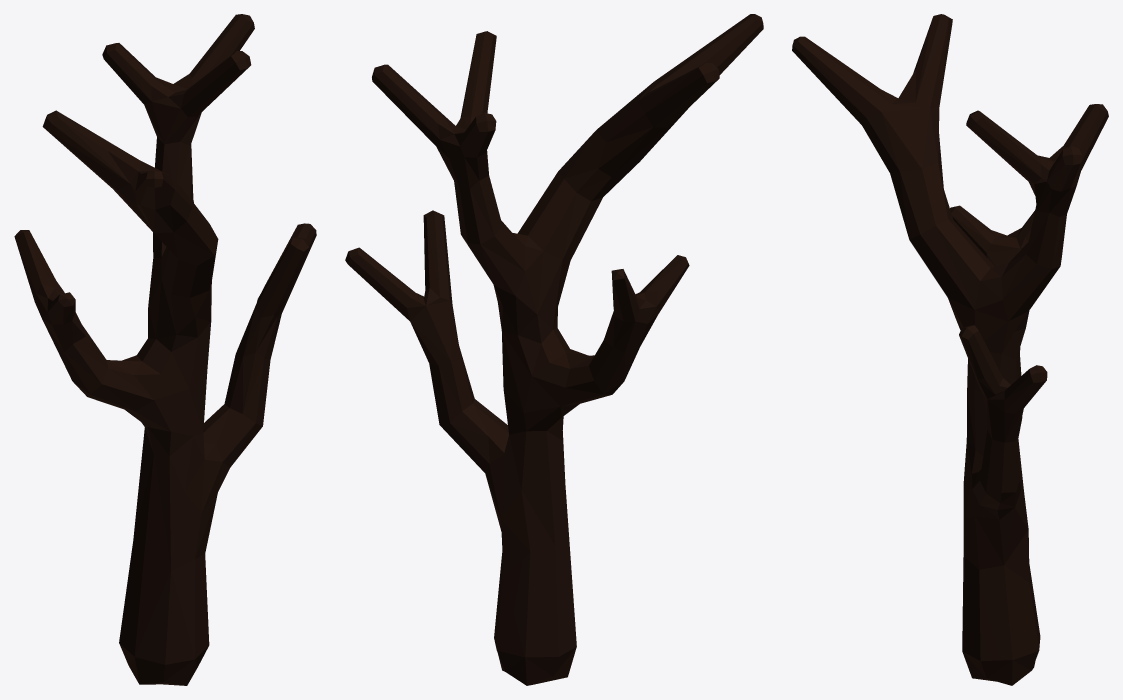
The model's file is BurnedTree1.obj.
3 renders of one model, left to right at view 1: azimuth 30°, elevation 25°; view 2: azimuth 150°, elevation 25°; view 3: azimuth 270°, elevation 25°, orthographic. The views are drawn at different scales.
Parts seen in each view (by area): view 1: deadtree1_Cube_Cube.000; view 2: deadtree1_Cube_Cube.000; view 3: deadtree1_Cube_Cube.000.
Part boxes in pixels (x1,y1,x2,y2): deadtree1_Cube_Cube.000: [14, 14, 316, 685]; deadtree1_Cube_Cube.000: [345, 14, 763, 685]; deadtree1_Cube_Cube.000: [792, 14, 1108, 685].
Bounding box in the file's own units: 1.99 × 3.76 × 1.79.
